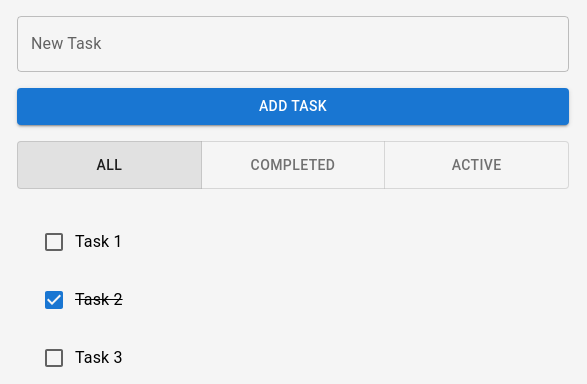
Todo App › Active tasks should be displayed and filtered correctly
The width and height of the screenshot is (587, 384).
Click the button "Active" at (477, 165), box x1=384 y1=140 x2=569 y2=189
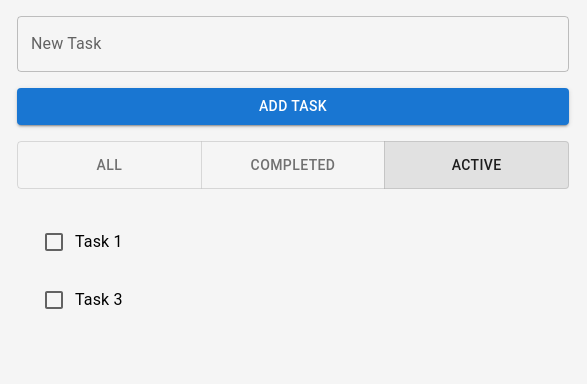
Expected: the checkbox next to "Task 1" is not checked, x1=42 y1=230 x2=66 y2=254
Expected: the text "Task 1" is shown 2 times, x1=75 y1=232 x2=123 y2=251; x1=75 y1=290 x2=123 y2=309
